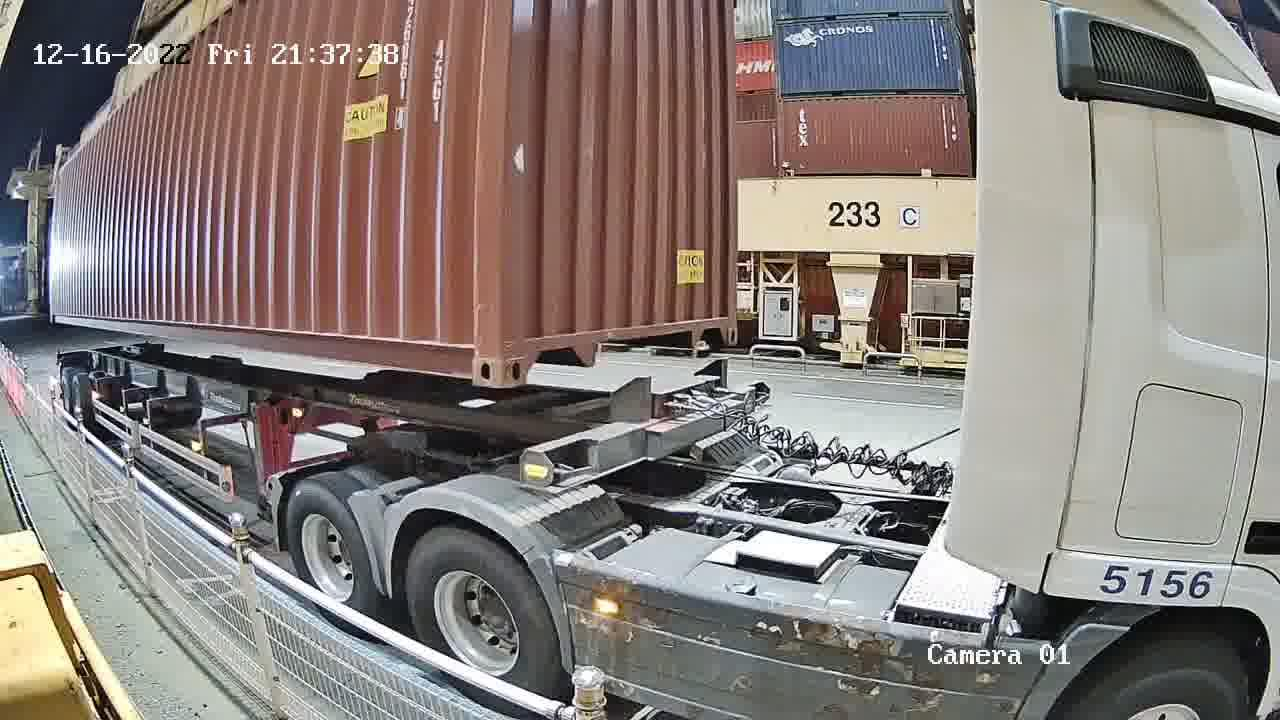Chassis: (523, 391, 778, 492)
Container: (498, 297, 738, 396)
Hole_L: (501, 321, 545, 393)
Hole_R: (443, 319, 505, 393), (713, 297, 739, 340)
Tire: (411, 532, 555, 694), (284, 483, 370, 618)
